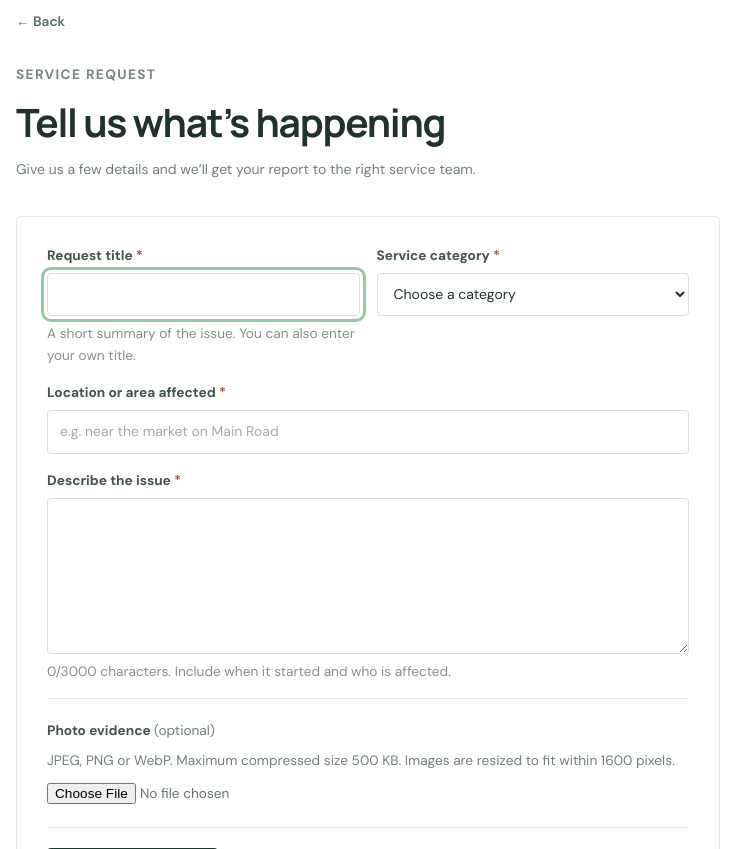
Test case: request form category routing › fills a selected suggestion without blurring the mobile title input
The width and height of the screenshot is (737, 849).
Type "potholes" into the field labelled "Request title *" at [203, 295], box [47,273,360,316]
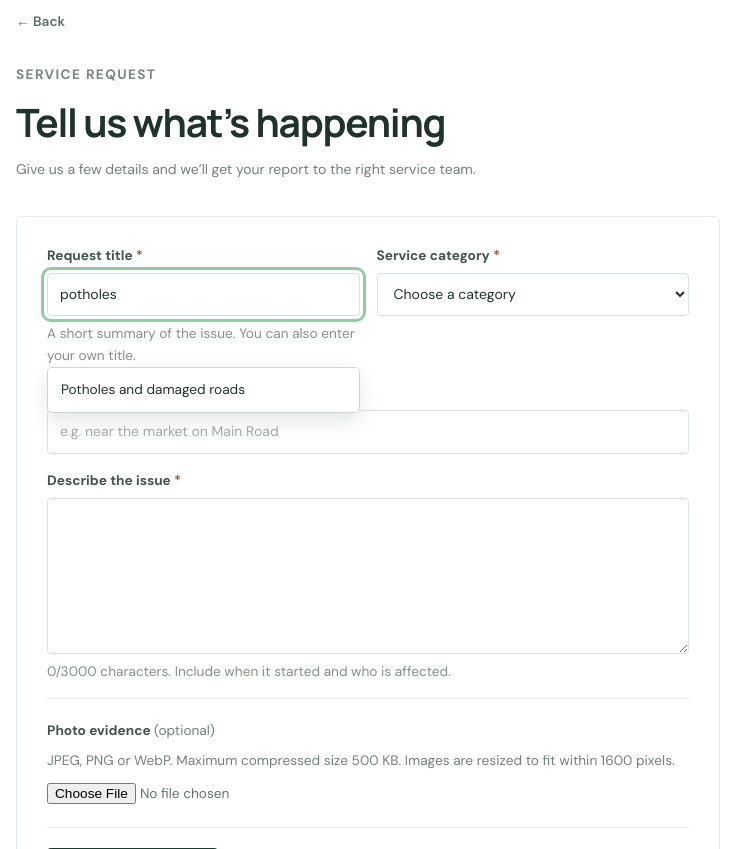
Click the button "Potholes and damaged roads" at [203, 390], box [48,368,358,412]
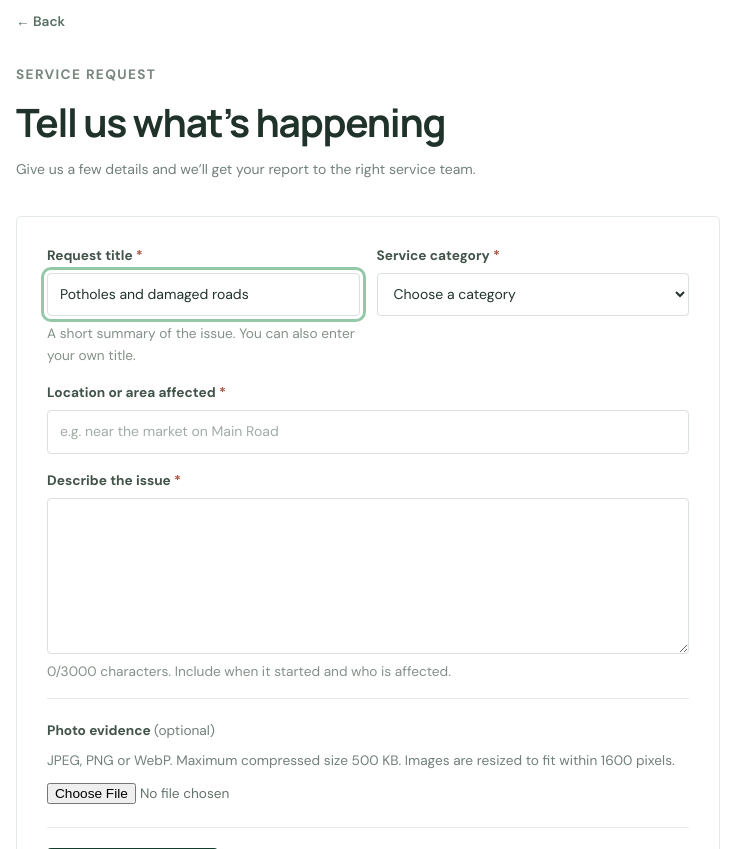
Expected: the field labelled "Request title *" holds "Potholes and damaged roads", [47,273,360,316]
